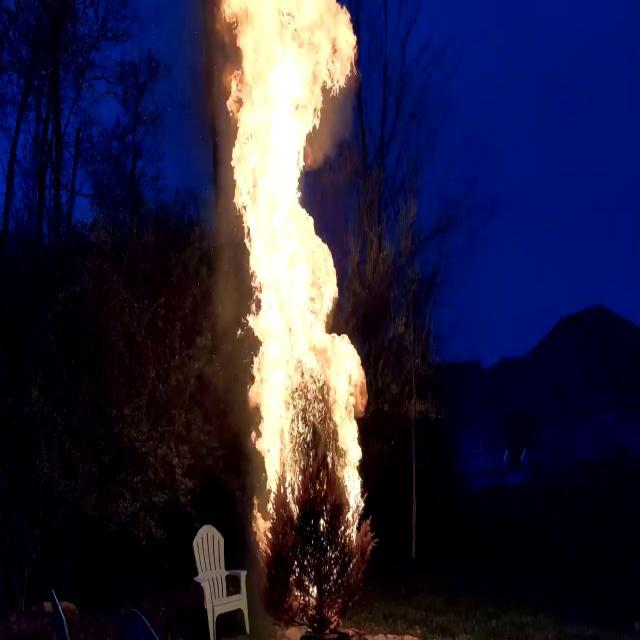Fire: (206, 1, 377, 539)
